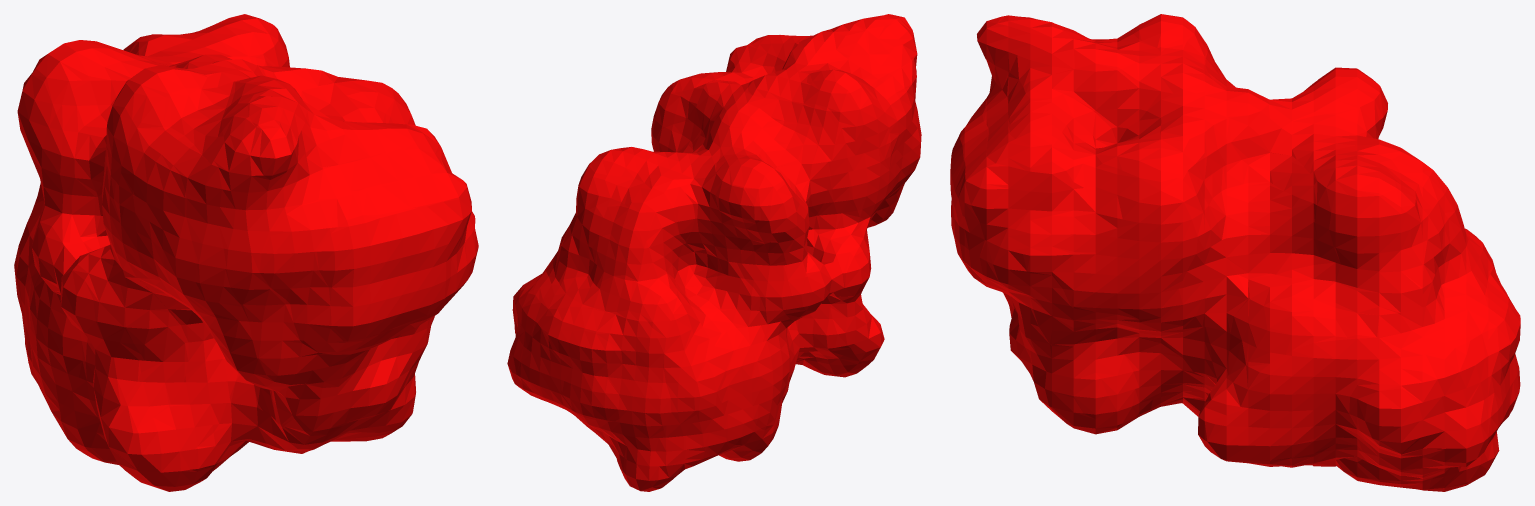
File: nanM_coarse.dae
The picture shows the model from 3 angles, left to right: view 1: azimuth 30°, elevation 25°; view 2: azimuth 150°, elevation 25°; view 3: azimuth 270°, elevation 25°; orthographic projection. The views are drawn at different scales.
Visible parts, largest first — view 1: nanM; view 2: nanM; view 3: nanM.
Boxes of the visible parts, x1,y1,x2,y2 form: nanM: [14, 14, 478, 491]; nanM: [507, 14, 921, 491]; nanM: [950, 14, 1520, 491].
Size of the model in its own units: 57.42 by 70 by 83.5.
